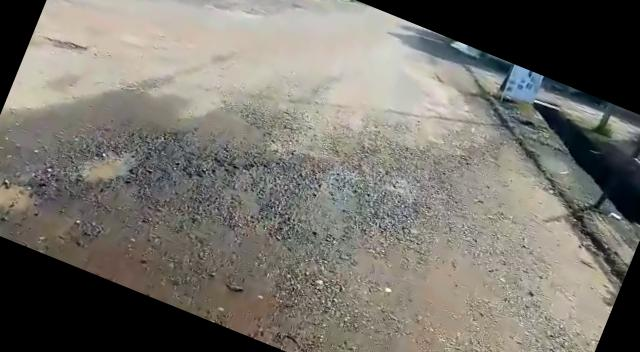pothole: (72, 132, 142, 200)
